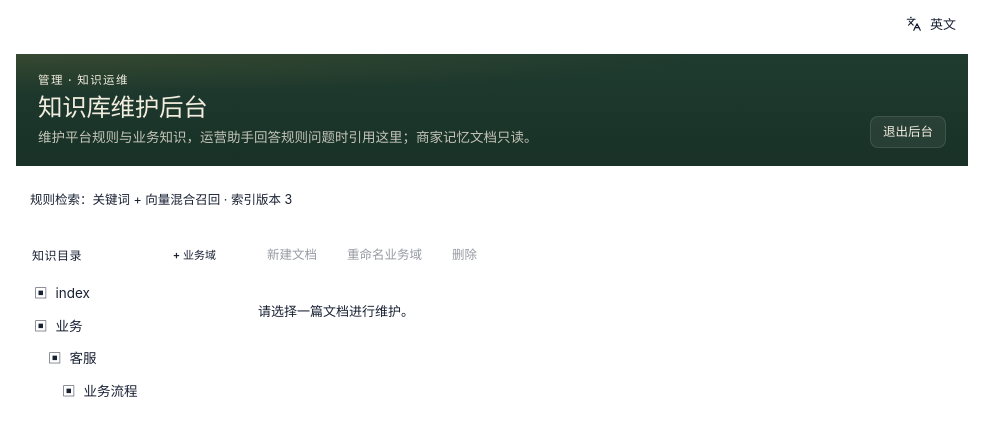
Test: KnowledgeBaseView › 选中固定板块目录时新建文档按钮可用，选中业务域根目录时不可用
Click the button "▣ 业务流程": click(128, 392) [26,376,230,407]
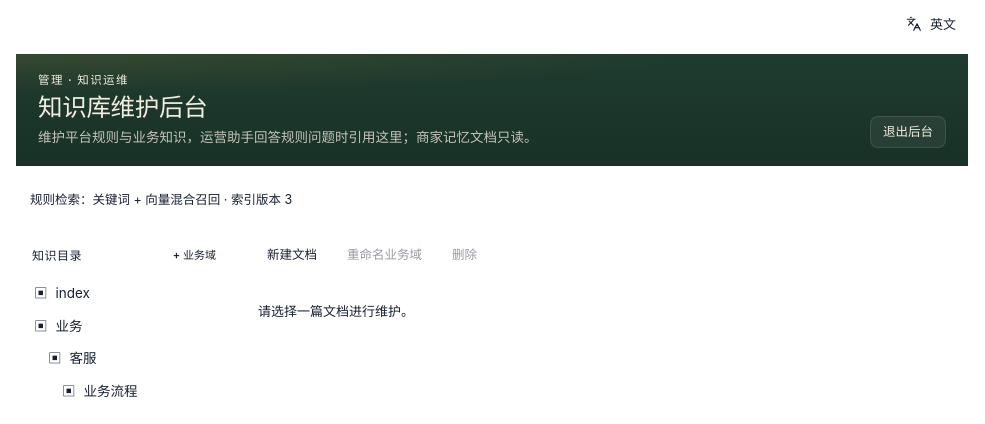
Check: the button with test id "create-document" is enabled, box [256,240,328,270]
Click the button "▣ 客服": click(128, 359) [26,343,230,375]
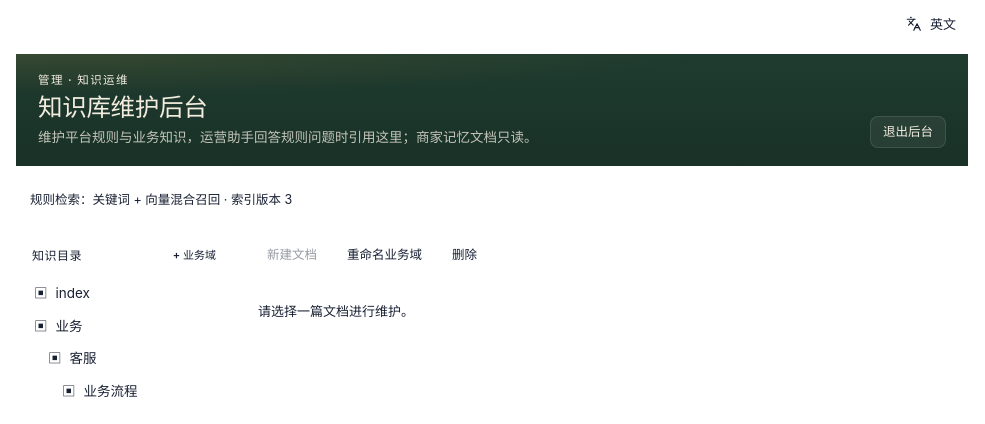
Check: the button with test id "create-document" is disabled, box [256,240,328,270]
